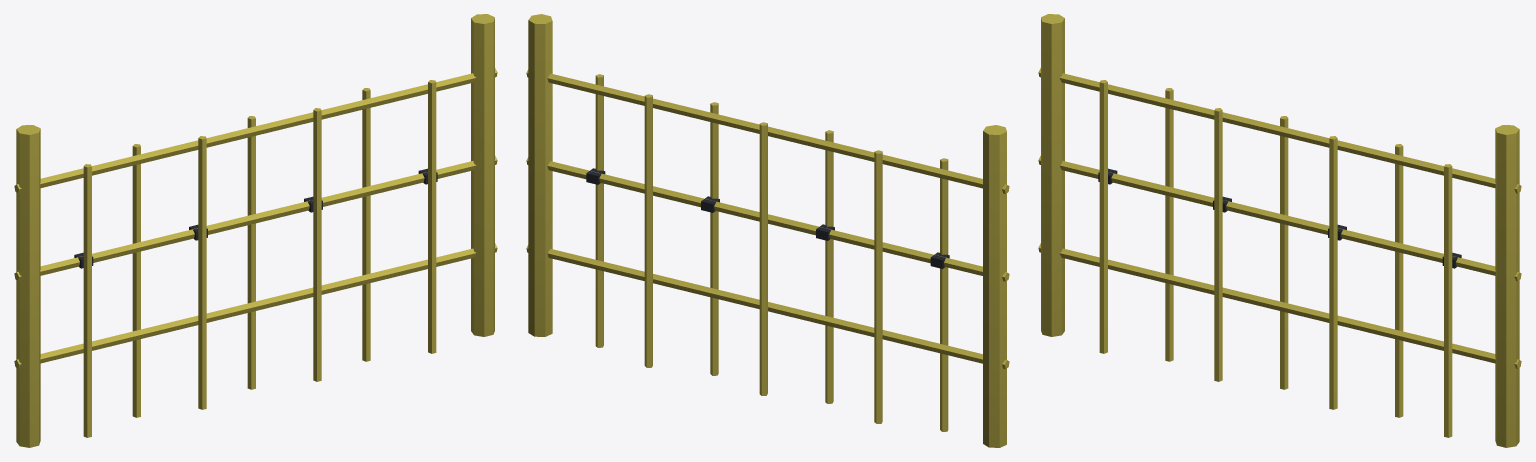
The model's file is fence-bamboo.glb.
3 renders of one model, left to right at view 1: azimuth 30°, elevation 25°; view 2: azimuth 150°, elevation 25°; view 3: azimuth 330°, elevation 25°, orthographic.
Visible parts, largest first — view 1: Fence bamboo Bamboo; view 2: Fence bamboo Bamboo, Fence bamboo Black rope; view 3: Fence bamboo Bamboo.
Boxes of the visible parts, bbox=[...] form: Fence bamboo Bamboo: bbox=[14, 14, 497, 447]; Fence bamboo Bamboo: bbox=[526, 14, 1009, 447]; Fence bamboo Black rope: bbox=[586, 168, 949, 268]; Fence bamboo Bamboo: bbox=[1038, 14, 1521, 447].
Size of the model in its own units: 2 by 1.27 by 0.0889.
